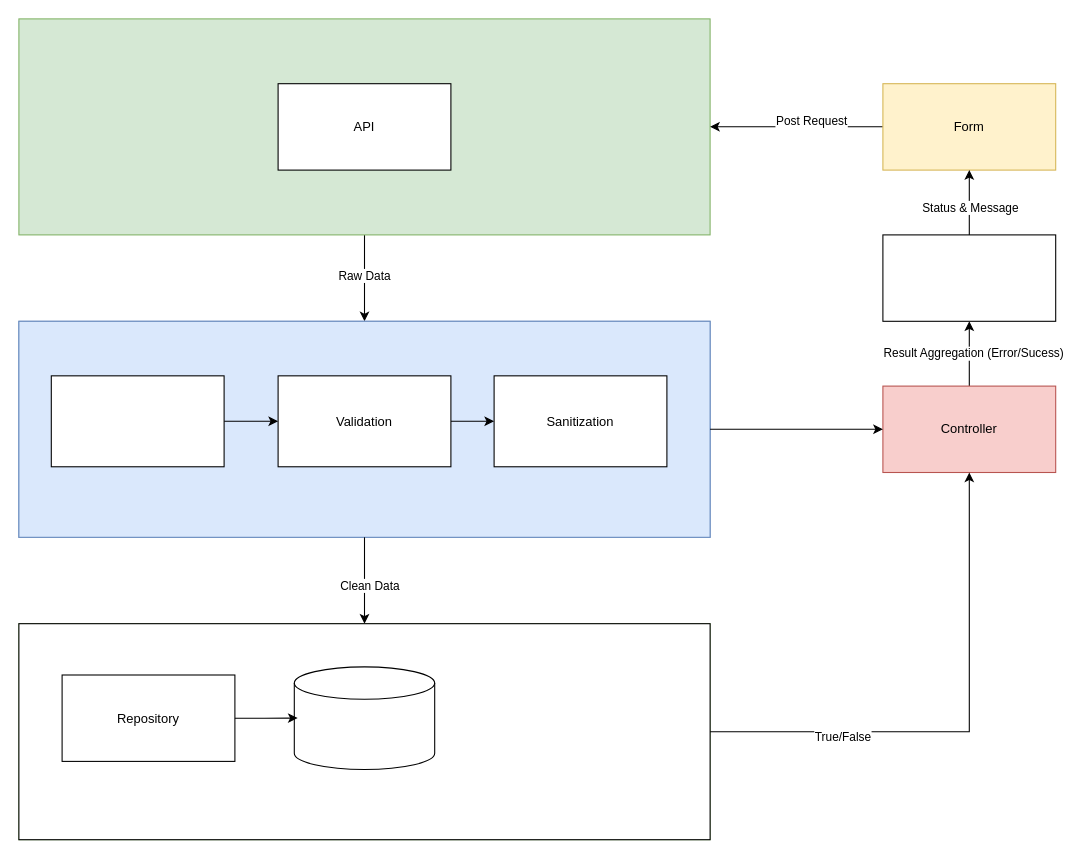
Image size: 1082x859. Some labels were removed from this diagram. Here are the shapes that lost their labels. From the top down, the centre of each, then its label:
the point at 969,277: Return JSON Response
the point at 137,421: Security
the point at 364,718: Database
